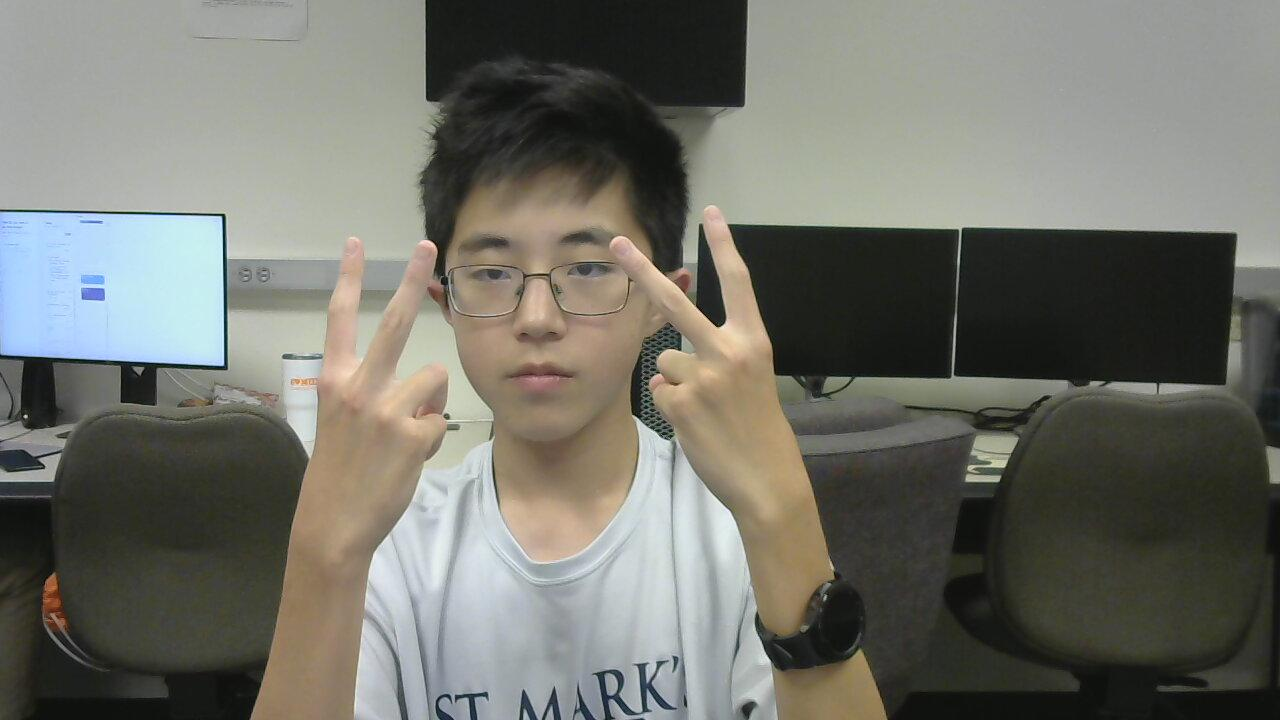peace: (591, 212, 805, 533), (283, 232, 469, 568)
